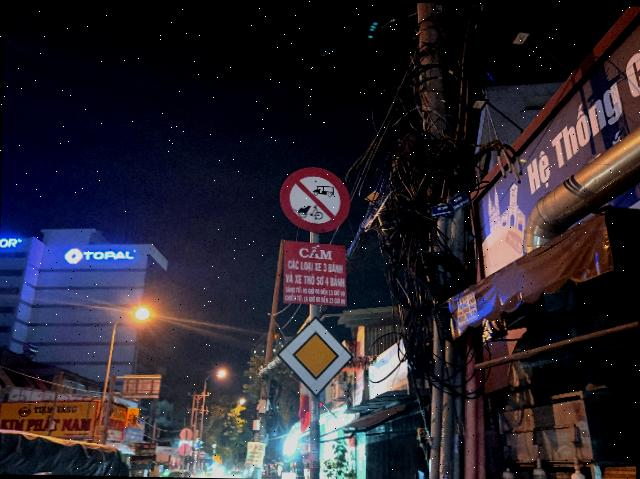bat-dau-duong-uu-tien: (275, 315, 355, 398)
cam-xe-3-banh-xe-tho-so-4-banh: (278, 165, 352, 232)
